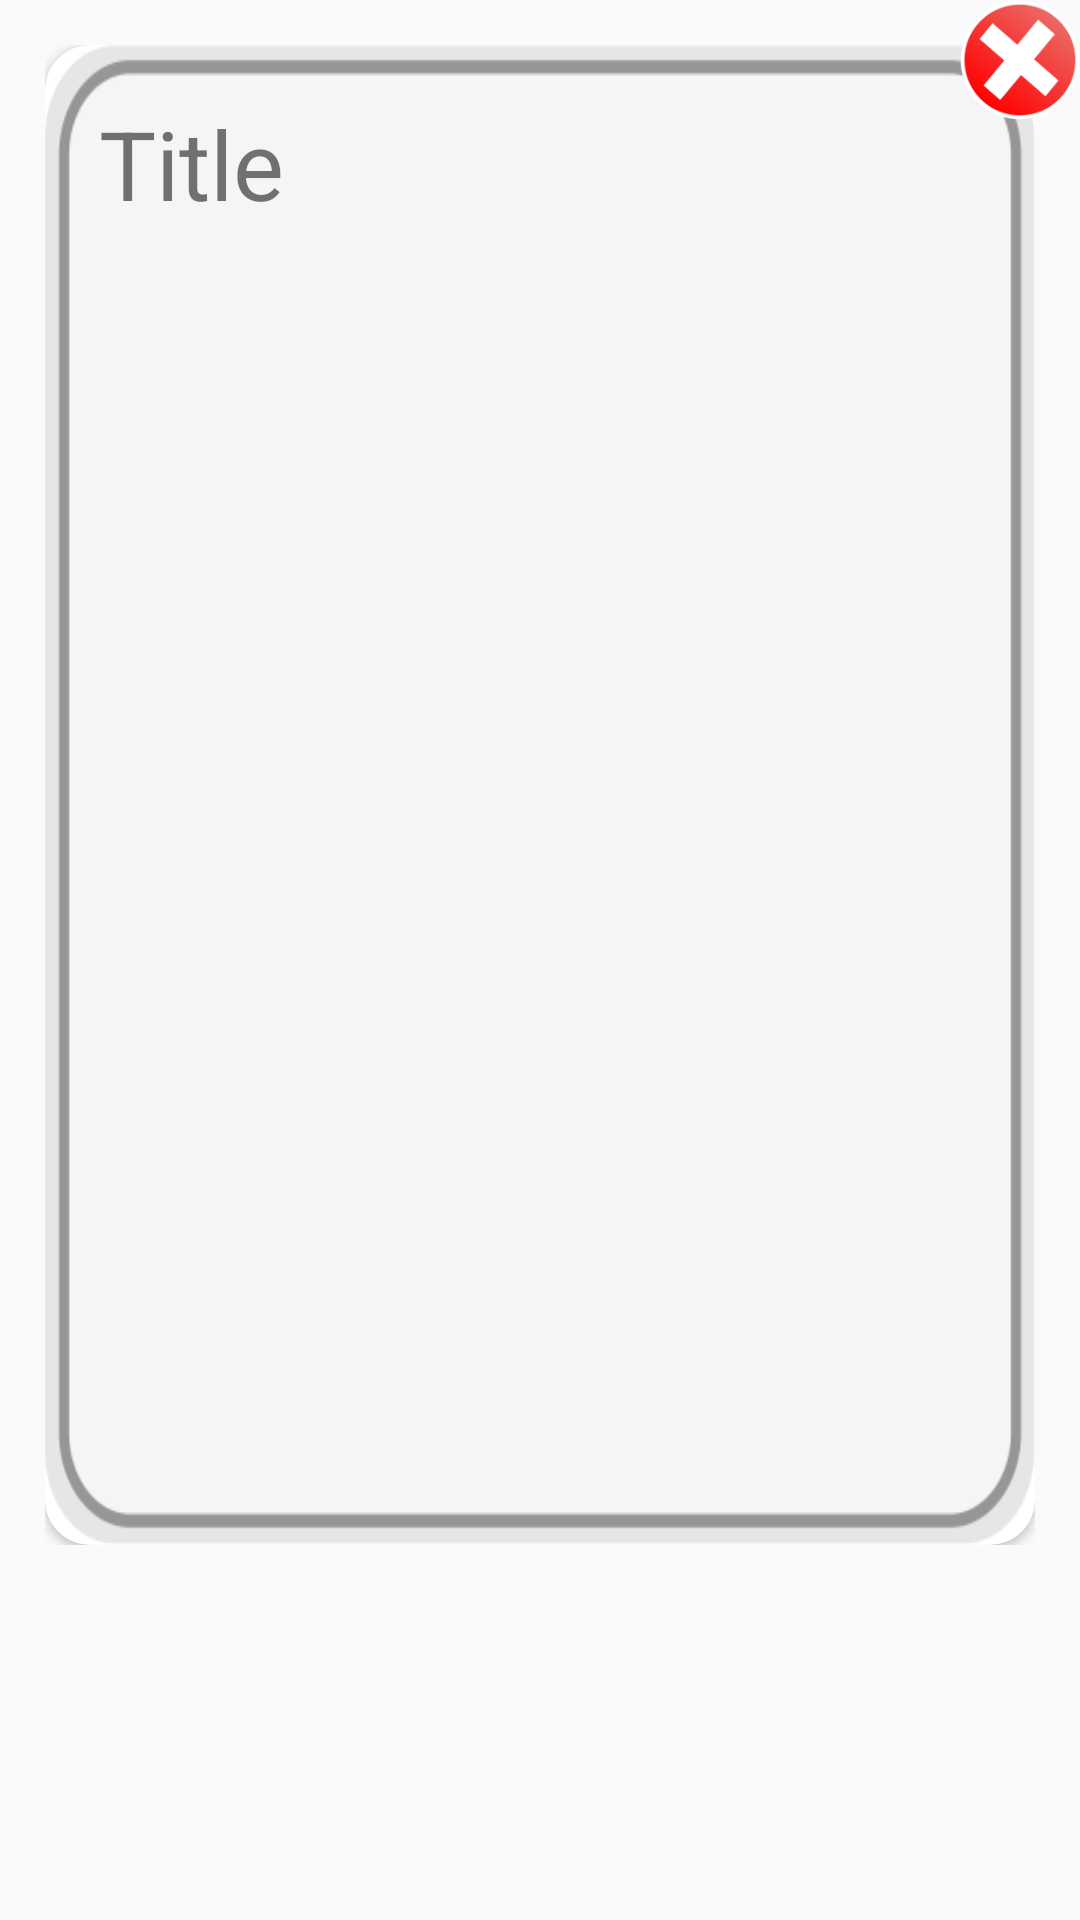

Point at icon controls on the screen. Image size 1080px×1920px, points as (x=x, y=y).
close: (x=1020, y=60)
